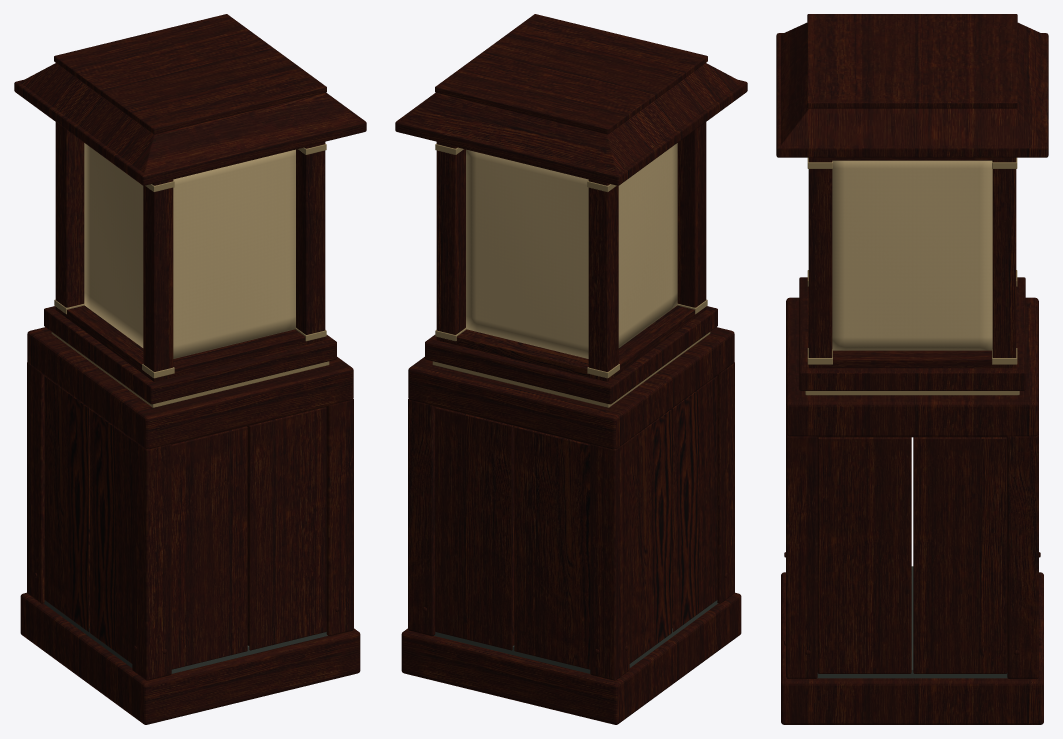
The model's file is pool-lantern-v1.glb.
The picture shows the model from 3 angles, left to right: view 1: azimuth 30°, elevation 25°; view 2: azimuth 150°, elevation 25°; view 3: azimuth 270°, elevation 25°; orthographic projection. The views are drawn at different scales.
Visible parts, largest first — view 1: DJC_Pool_Lantern; view 2: DJC_Pool_Lantern; view 3: DJC_Pool_Lantern.
Part boxes in pixels (x1=…): DJC_Pool_Lantern: x1=14, y1=14, x2=366, y2=724; DJC_Pool_Lantern: x1=395, y1=14, x2=747, y2=724; DJC_Pool_Lantern: x1=776, y1=14, x2=1048, y2=724.
Size of the model in its own units: 0.31 by 0.77 by 0.31.
4 materials, 2 textured.
